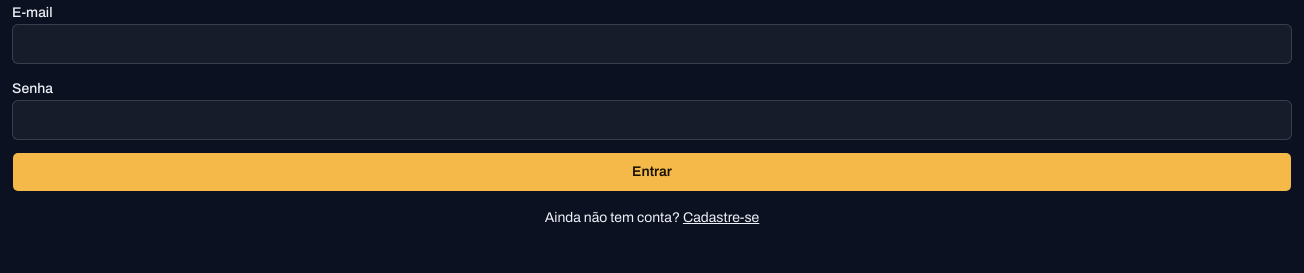
Test: LoginForm › cadastro sem sessão pede confirmação por e-mail
Click the button "Cadastre-se" at (721, 218), box [683,208,759,228]
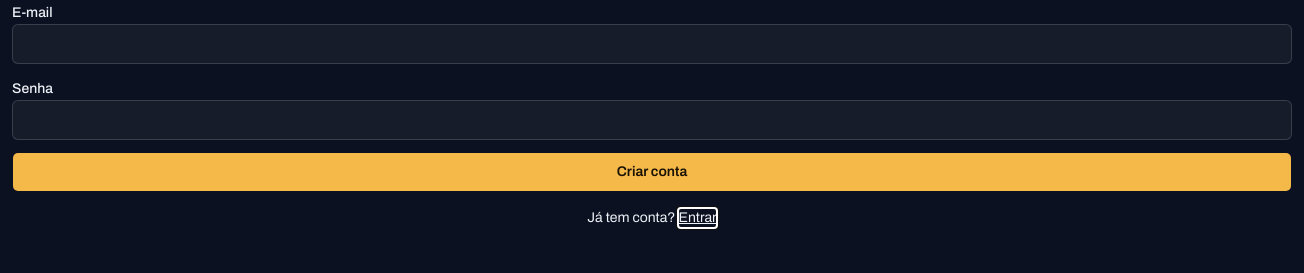
Type "ana@exemplo.com" into the field labelled "E-mail" at (652, 44), box [12,24,1292,64]
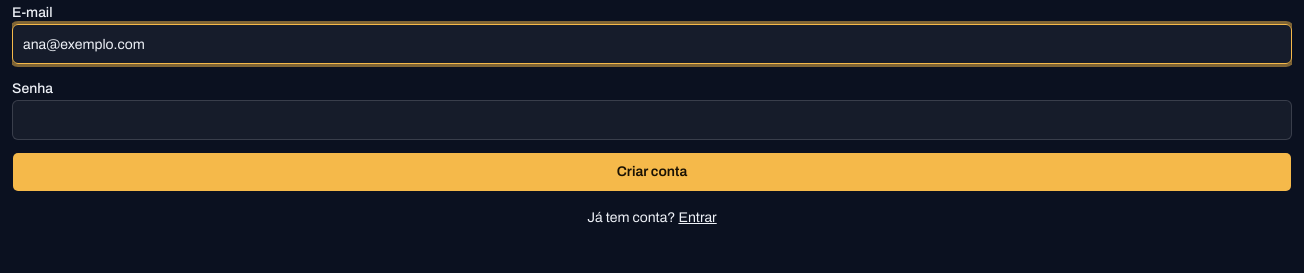
Type "segredo123" into the password field labelled "Senha" at (652, 120), box [12,100,1292,140]
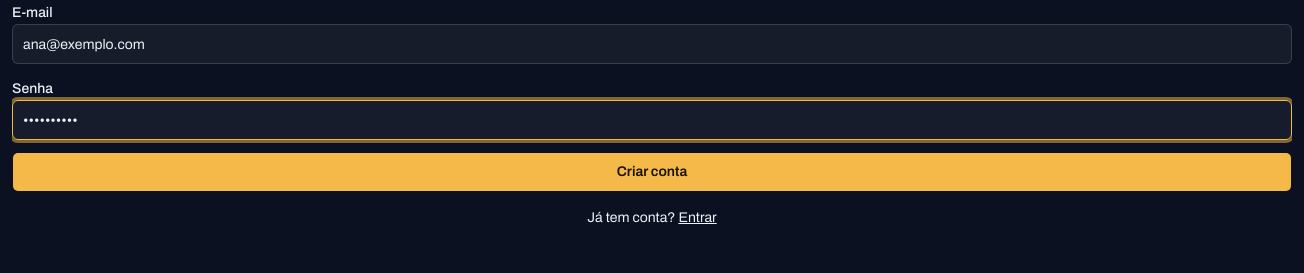
Click the button "Criar conta" at (652, 172), box [12,152,1292,192]
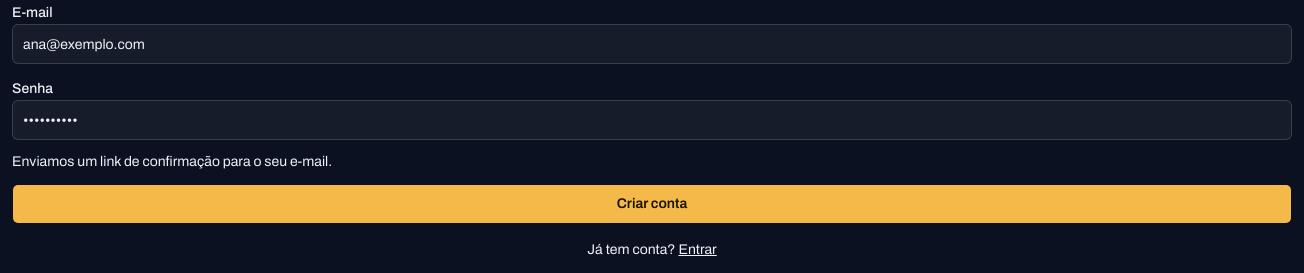
Expected: the message reads "Enviamos um link de confirmação para o seu e-mail.", [12,154,332,169]
